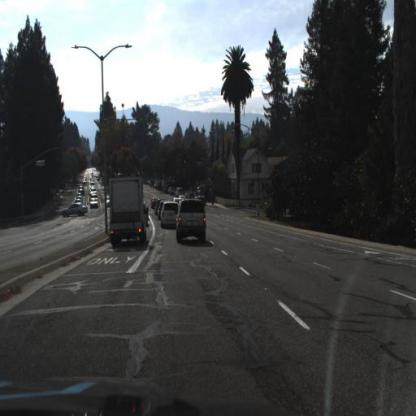car: (176, 198, 208, 244), (160, 202, 180, 232), (59, 203, 89, 221), (175, 187, 185, 199), (91, 198, 100, 210), (168, 185, 176, 195), (106, 196, 112, 207)
truck: (108, 174, 148, 249)
